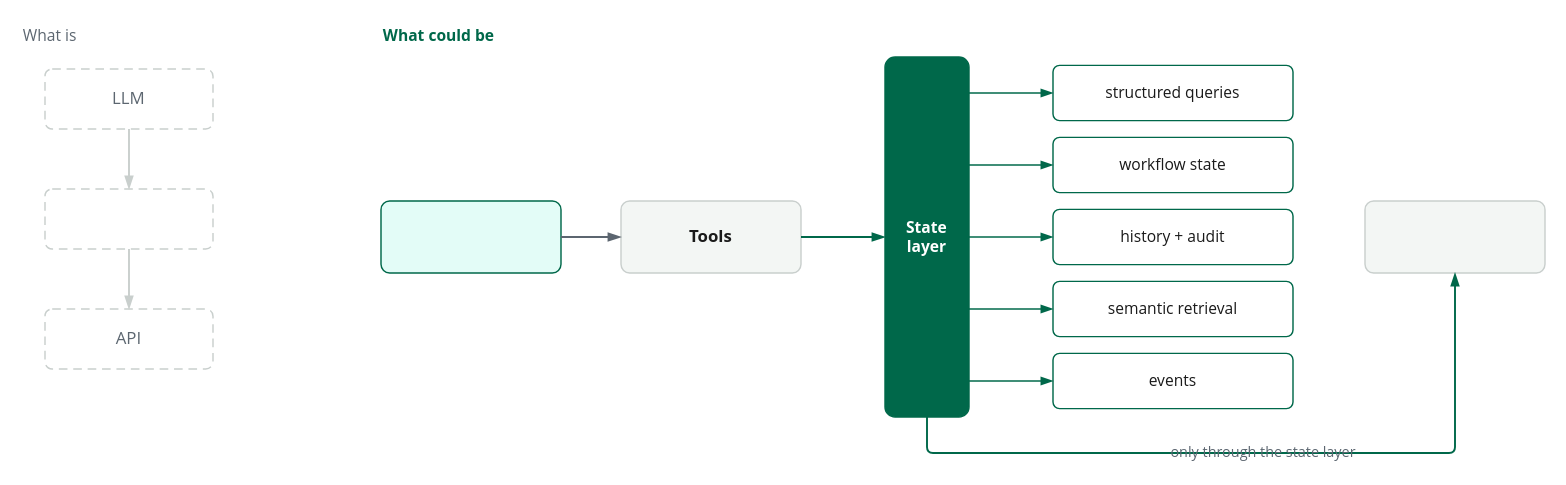
Image size: 1566x485. Some labels were removed from this diagram. Each missing label, with the centre of its shape:
Agent: pixel 470 236
APIs / jobs: pixel 1454 236
tool: pixel 128 218
